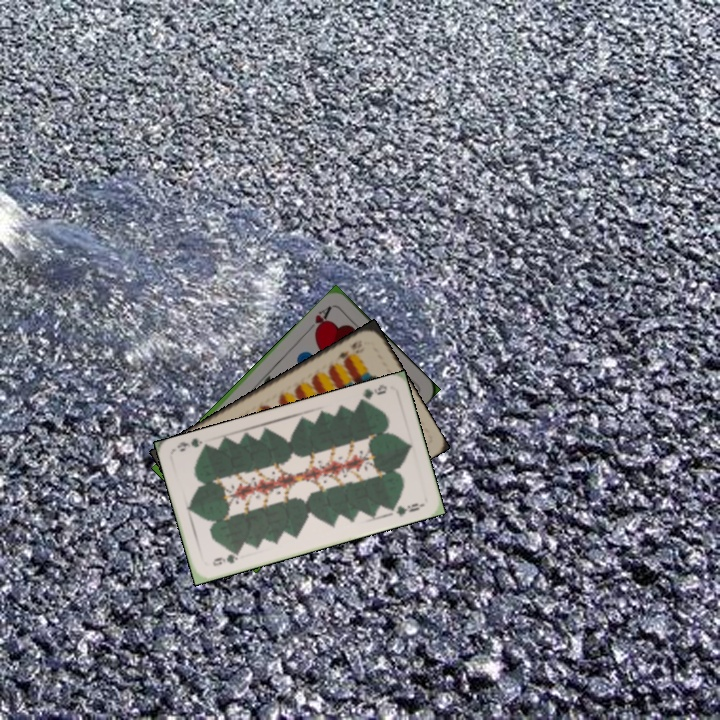E10: (332, 338, 360, 367)
G9: (354, 380, 390, 407), (208, 547, 242, 569)
HA: (310, 301, 335, 336)
